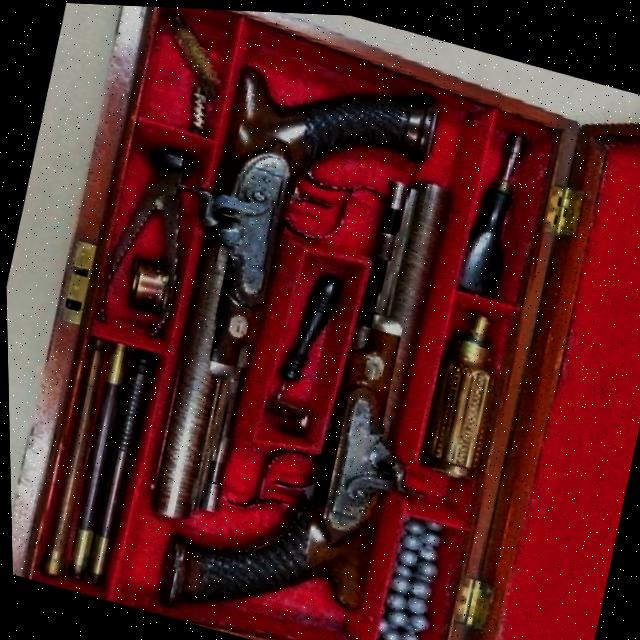pistol: (147, 124, 470, 640), (134, 43, 451, 567)
